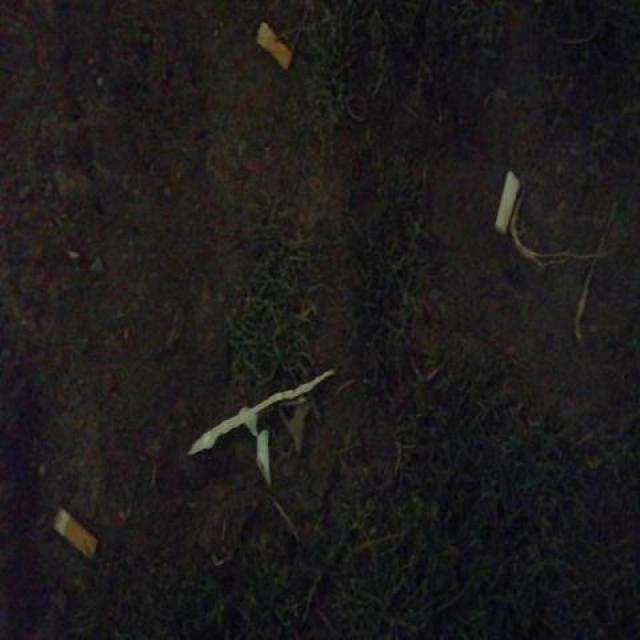non-organic waste: (48, 500, 100, 564), (252, 14, 296, 75), (492, 166, 523, 238)
